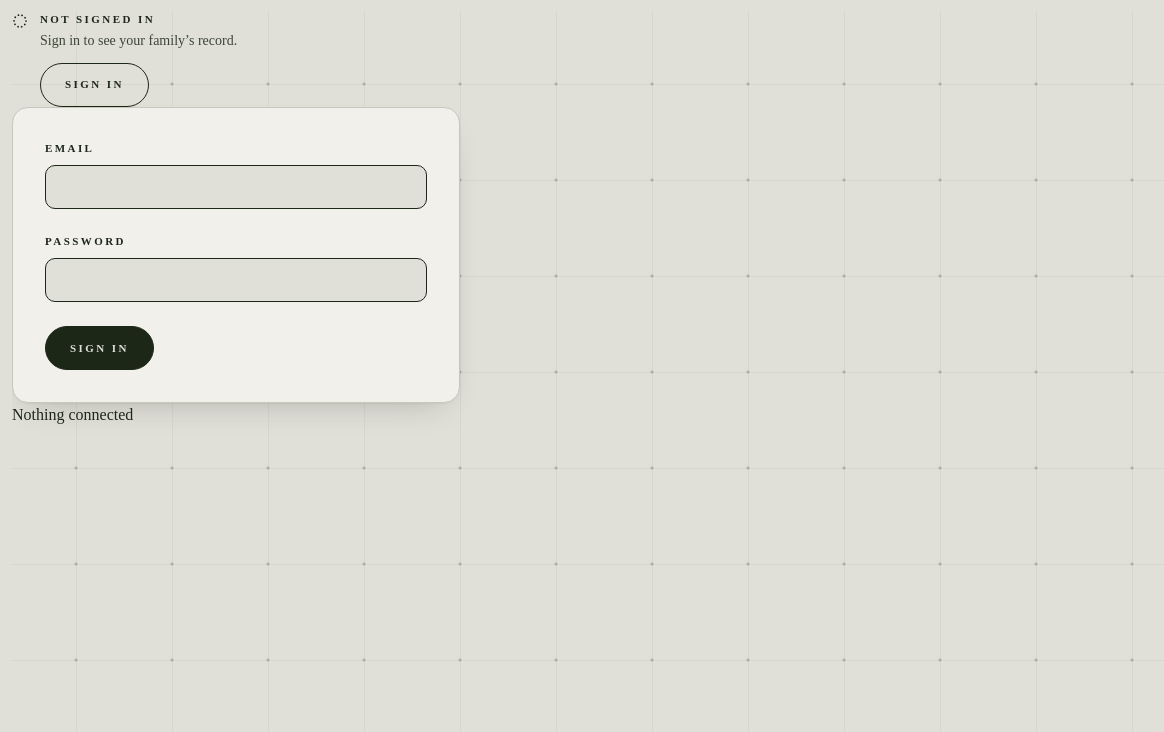
signed out › a wrong password or an unreachable Serene is said plainly, and nothing connects
In the field labelled "Email": (236, 187) [45,165,427,209], type "parent@example.org"
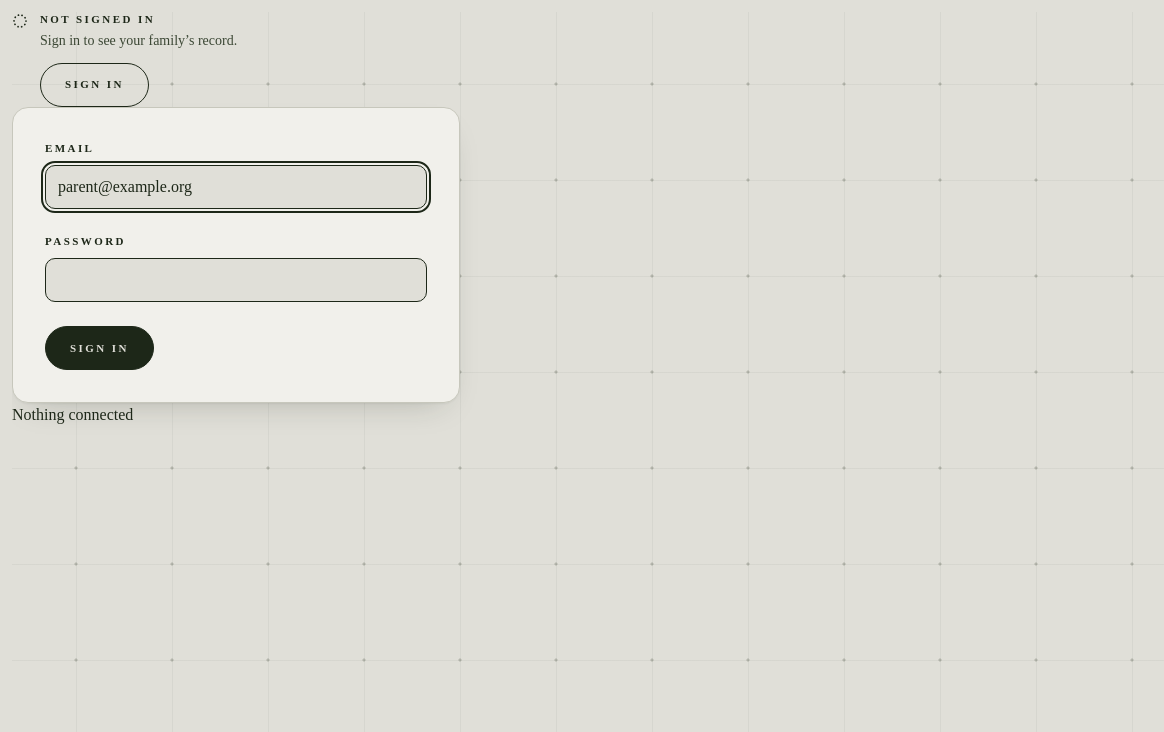
In the password field labelled "Password": (236, 280) [45,258,427,302], type "wrong"
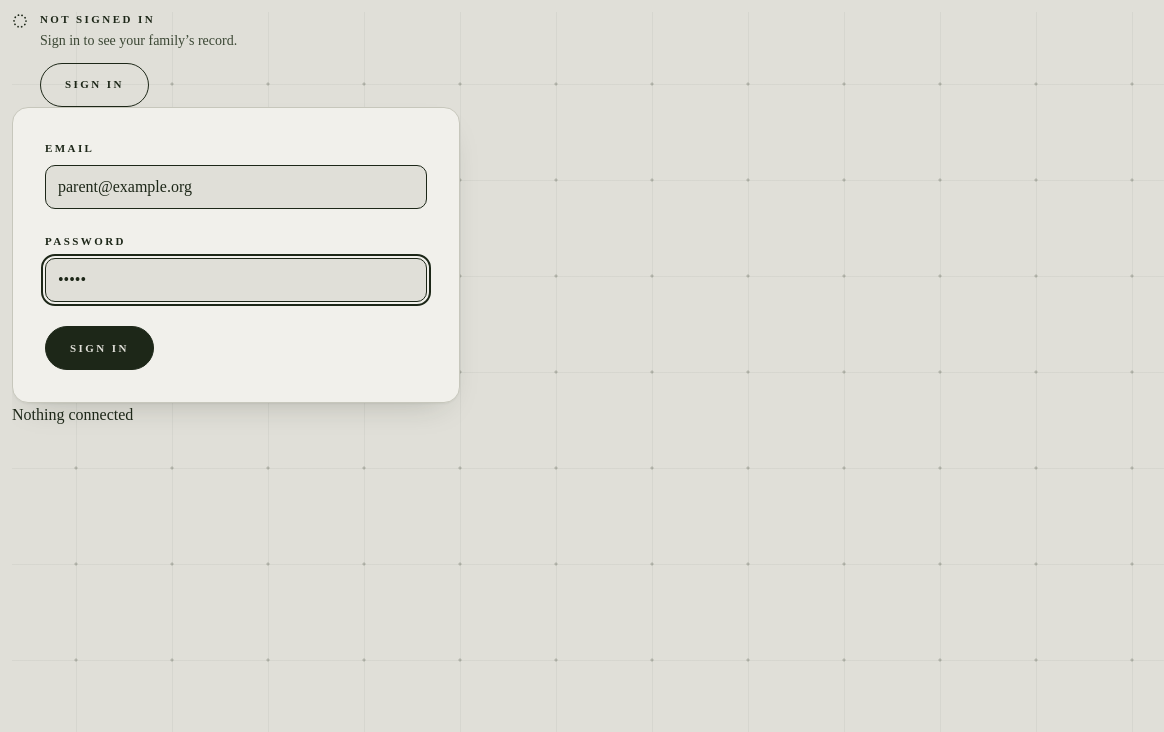
Click the button "Sign in": (99, 348) [45,326,154,370]
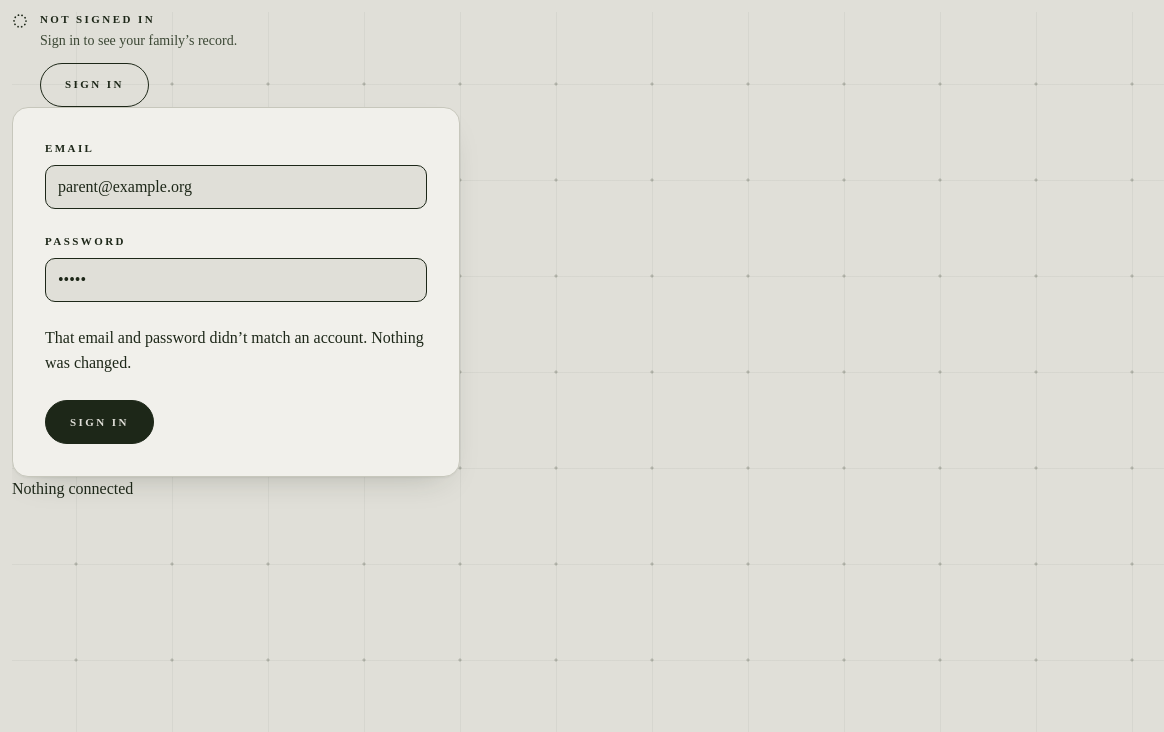
Expected: the message shows "didn’t match", [45,329,424,371]
Click the button "Sign in": (99, 422) [45,400,154,444]
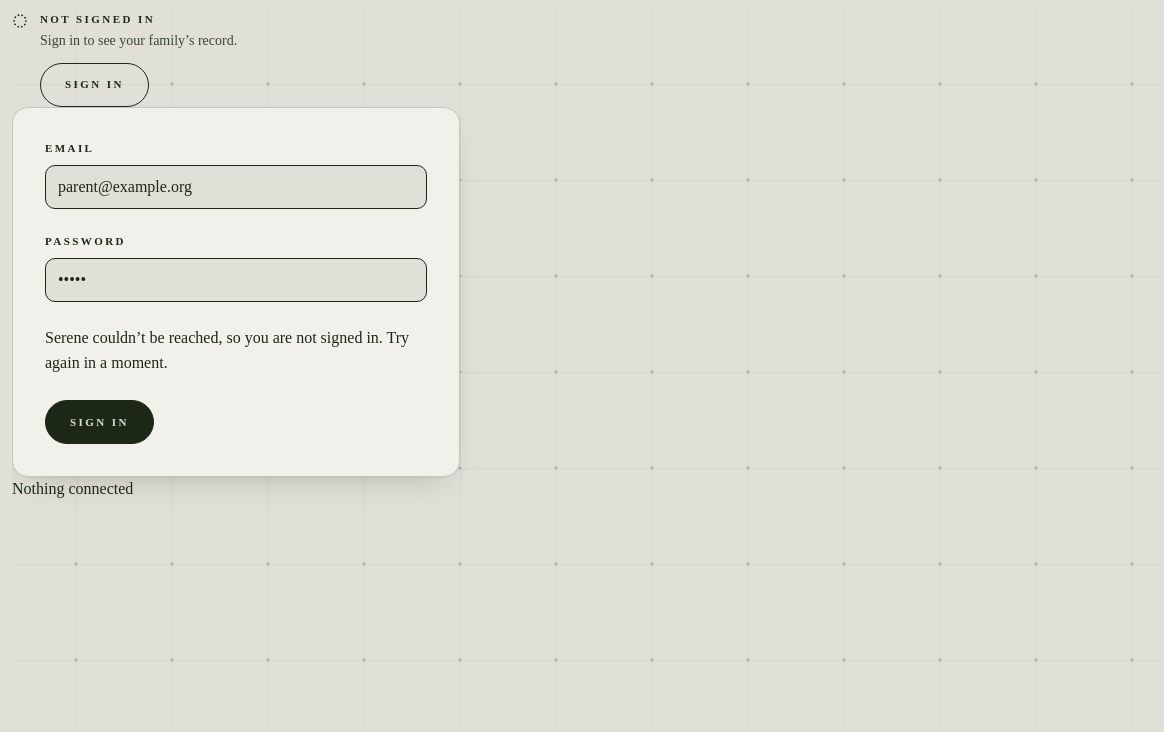
Expected: the message shows "couldn’t be reached", [45,329,409,371]
